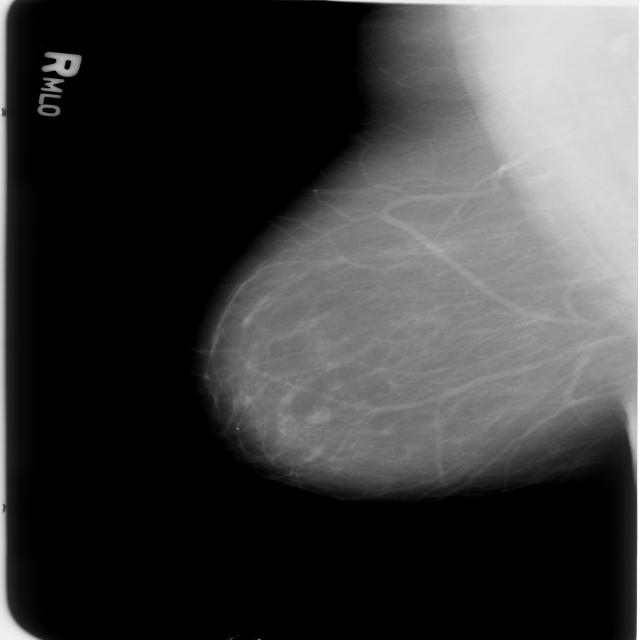normal: (184, 0, 640, 521)
